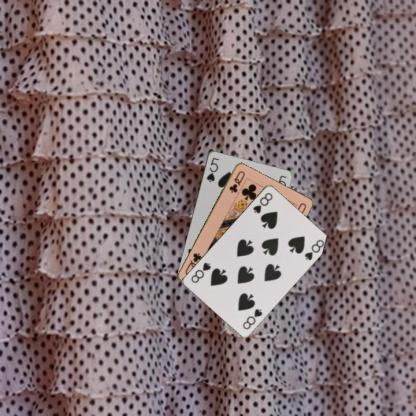5s: (204, 155, 220, 183)
8s: (250, 190, 274, 214), (240, 306, 263, 330)
Qc: (227, 168, 246, 194)
